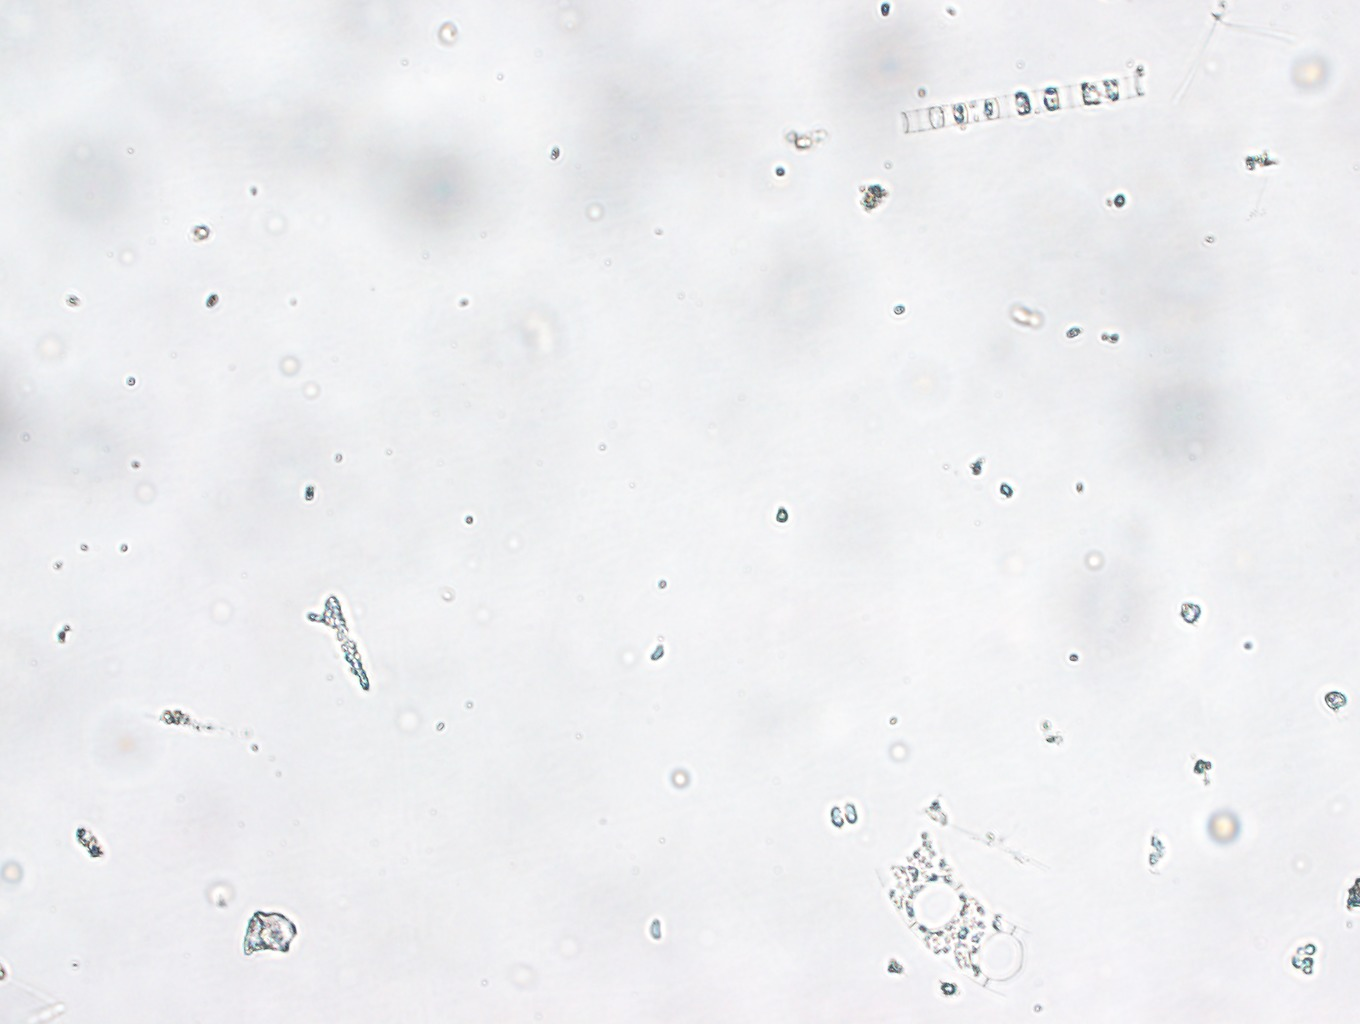eucampia: (870, 795, 1096, 1024)
skeletonema: (891, 47, 1158, 166)
